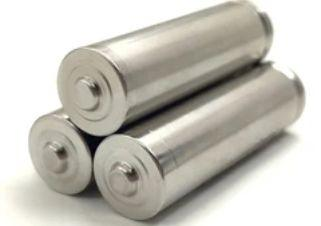battery: (88, 64, 300, 221), (56, 0, 268, 134), (93, 134, 164, 219), (58, 50, 128, 135), (27, 112, 95, 195), (48, 141, 65, 155)
